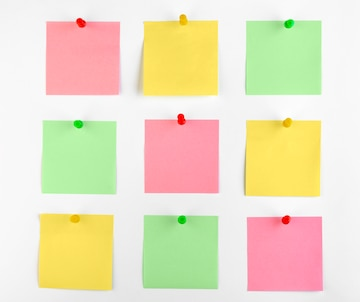green_sticky_note: (143, 214, 220, 290), (246, 21, 322, 96), (41, 120, 116, 194)
pink_sticky_note: (144, 118, 220, 194), (246, 217, 323, 292), (45, 21, 121, 95)
yellow_sticky_note: (245, 119, 321, 196), (38, 213, 113, 291), (141, 20, 218, 95)
